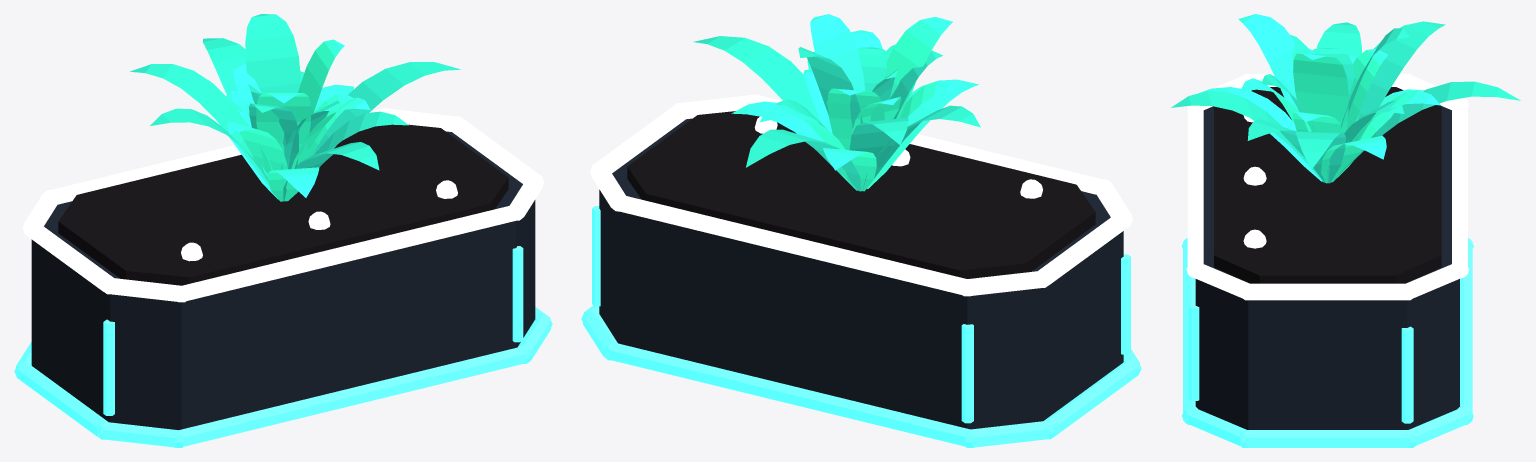
File: maceta-futurista-luces.glb
3 views of the same model, side by side, from view 1: azimuth 30°, elevation 25°; view 2: azimuth 150°, elevation 25°; view 3: azimuth 270°, elevation 25° (orthographic). The views are drawn at different scales.
Visible parts, largest first — view 1: Maceta_Futurista_Luces_MacetaOscura, Maceta_Futurista_Luces_Tierra, Maceta_Futurista_Luces_NeonBlanco, Maceta_Futurista_Luces_HojaVerde, Maceta_Futurista_Luces_NeonCian, Maceta_Futurista_Luces_HojaTurquesa; view 2: Maceta_Futurista_Luces_MacetaOscura, Maceta_Futurista_Luces_Tierra, Maceta_Futurista_Luces_NeonBlanco, Maceta_Futurista_Luces_NeonCian, Maceta_Futurista_Luces_HojaTurquesa, Maceta_Futurista_Luces_HojaVerde; view 3: Maceta_Futurista_Luces_MacetaOscura, Maceta_Futurista_Luces_Tierra, Maceta_Futurista_Luces_NeonBlanco, Maceta_Futurista_Luces_HojaTurquesa, Maceta_Futurista_Luces_HojaVerde, Maceta_Futurista_Luces_NeonCian.
Part boxes in pixels (left/top/right/bottom): Maceta_Futurista_Luces_MacetaOscura: left=31, top=131, right=535, bottom=430; Maceta_Futurista_Luces_Tierra: left=58, top=124, right=508, bottom=285; Maceta_Futurista_Luces_NeonBlanco: left=22, top=108, right=544, bottom=302; Maceta_Futurista_Luces_HojaVerde: left=130, top=14, right=460, bottom=201; Maceta_Futurista_Luces_NeonCian: left=14, top=246, right=552, bottom=447; Maceta_Futurista_Luces_HojaTurquesa: left=216, top=39, right=370, bottom=201; Maceta_Futurista_Luces_MacetaOscura: left=599, top=118, right=1123, bottom=429; Maceta_Futurista_Luces_Tierra: left=627, top=111, right=1095, bottom=278; Maceta_Futurista_Luces_NeonBlanco: left=590, top=94, right=1132, bottom=296; Maceta_Futurista_Luces_NeonCian: left=581, top=206, right=1141, bottom=447; Maceta_Futurista_Luces_HojaTurquesa: left=731, top=14, right=978, bottom=191; Maceta_Futurista_Luces_HojaVerde: left=693, top=36, right=980, bottom=191; Maceta_Futurista_Luces_MacetaOscura: left=1195, top=105, right=1459, bottom=429; Maceta_Futurista_Luces_Tierra: left=1214, top=87, right=1441, bottom=283; Maceta_Futurista_Luces_NeonBlanco: left=1186, top=74, right=1469, bottom=300; Maceta_Futurista_Luces_HojaTurquesa: left=1199, top=14, right=1440, bottom=183; Maceta_Futurista_Luces_HojaVerde: left=1171, top=21, right=1520, bottom=183; Maceta_Futurista_Luces_NeonCian: left=1182, top=238, right=1473, bottom=447.
Size of the model in its own units: 1.6 by 1.05 by 1.06.
